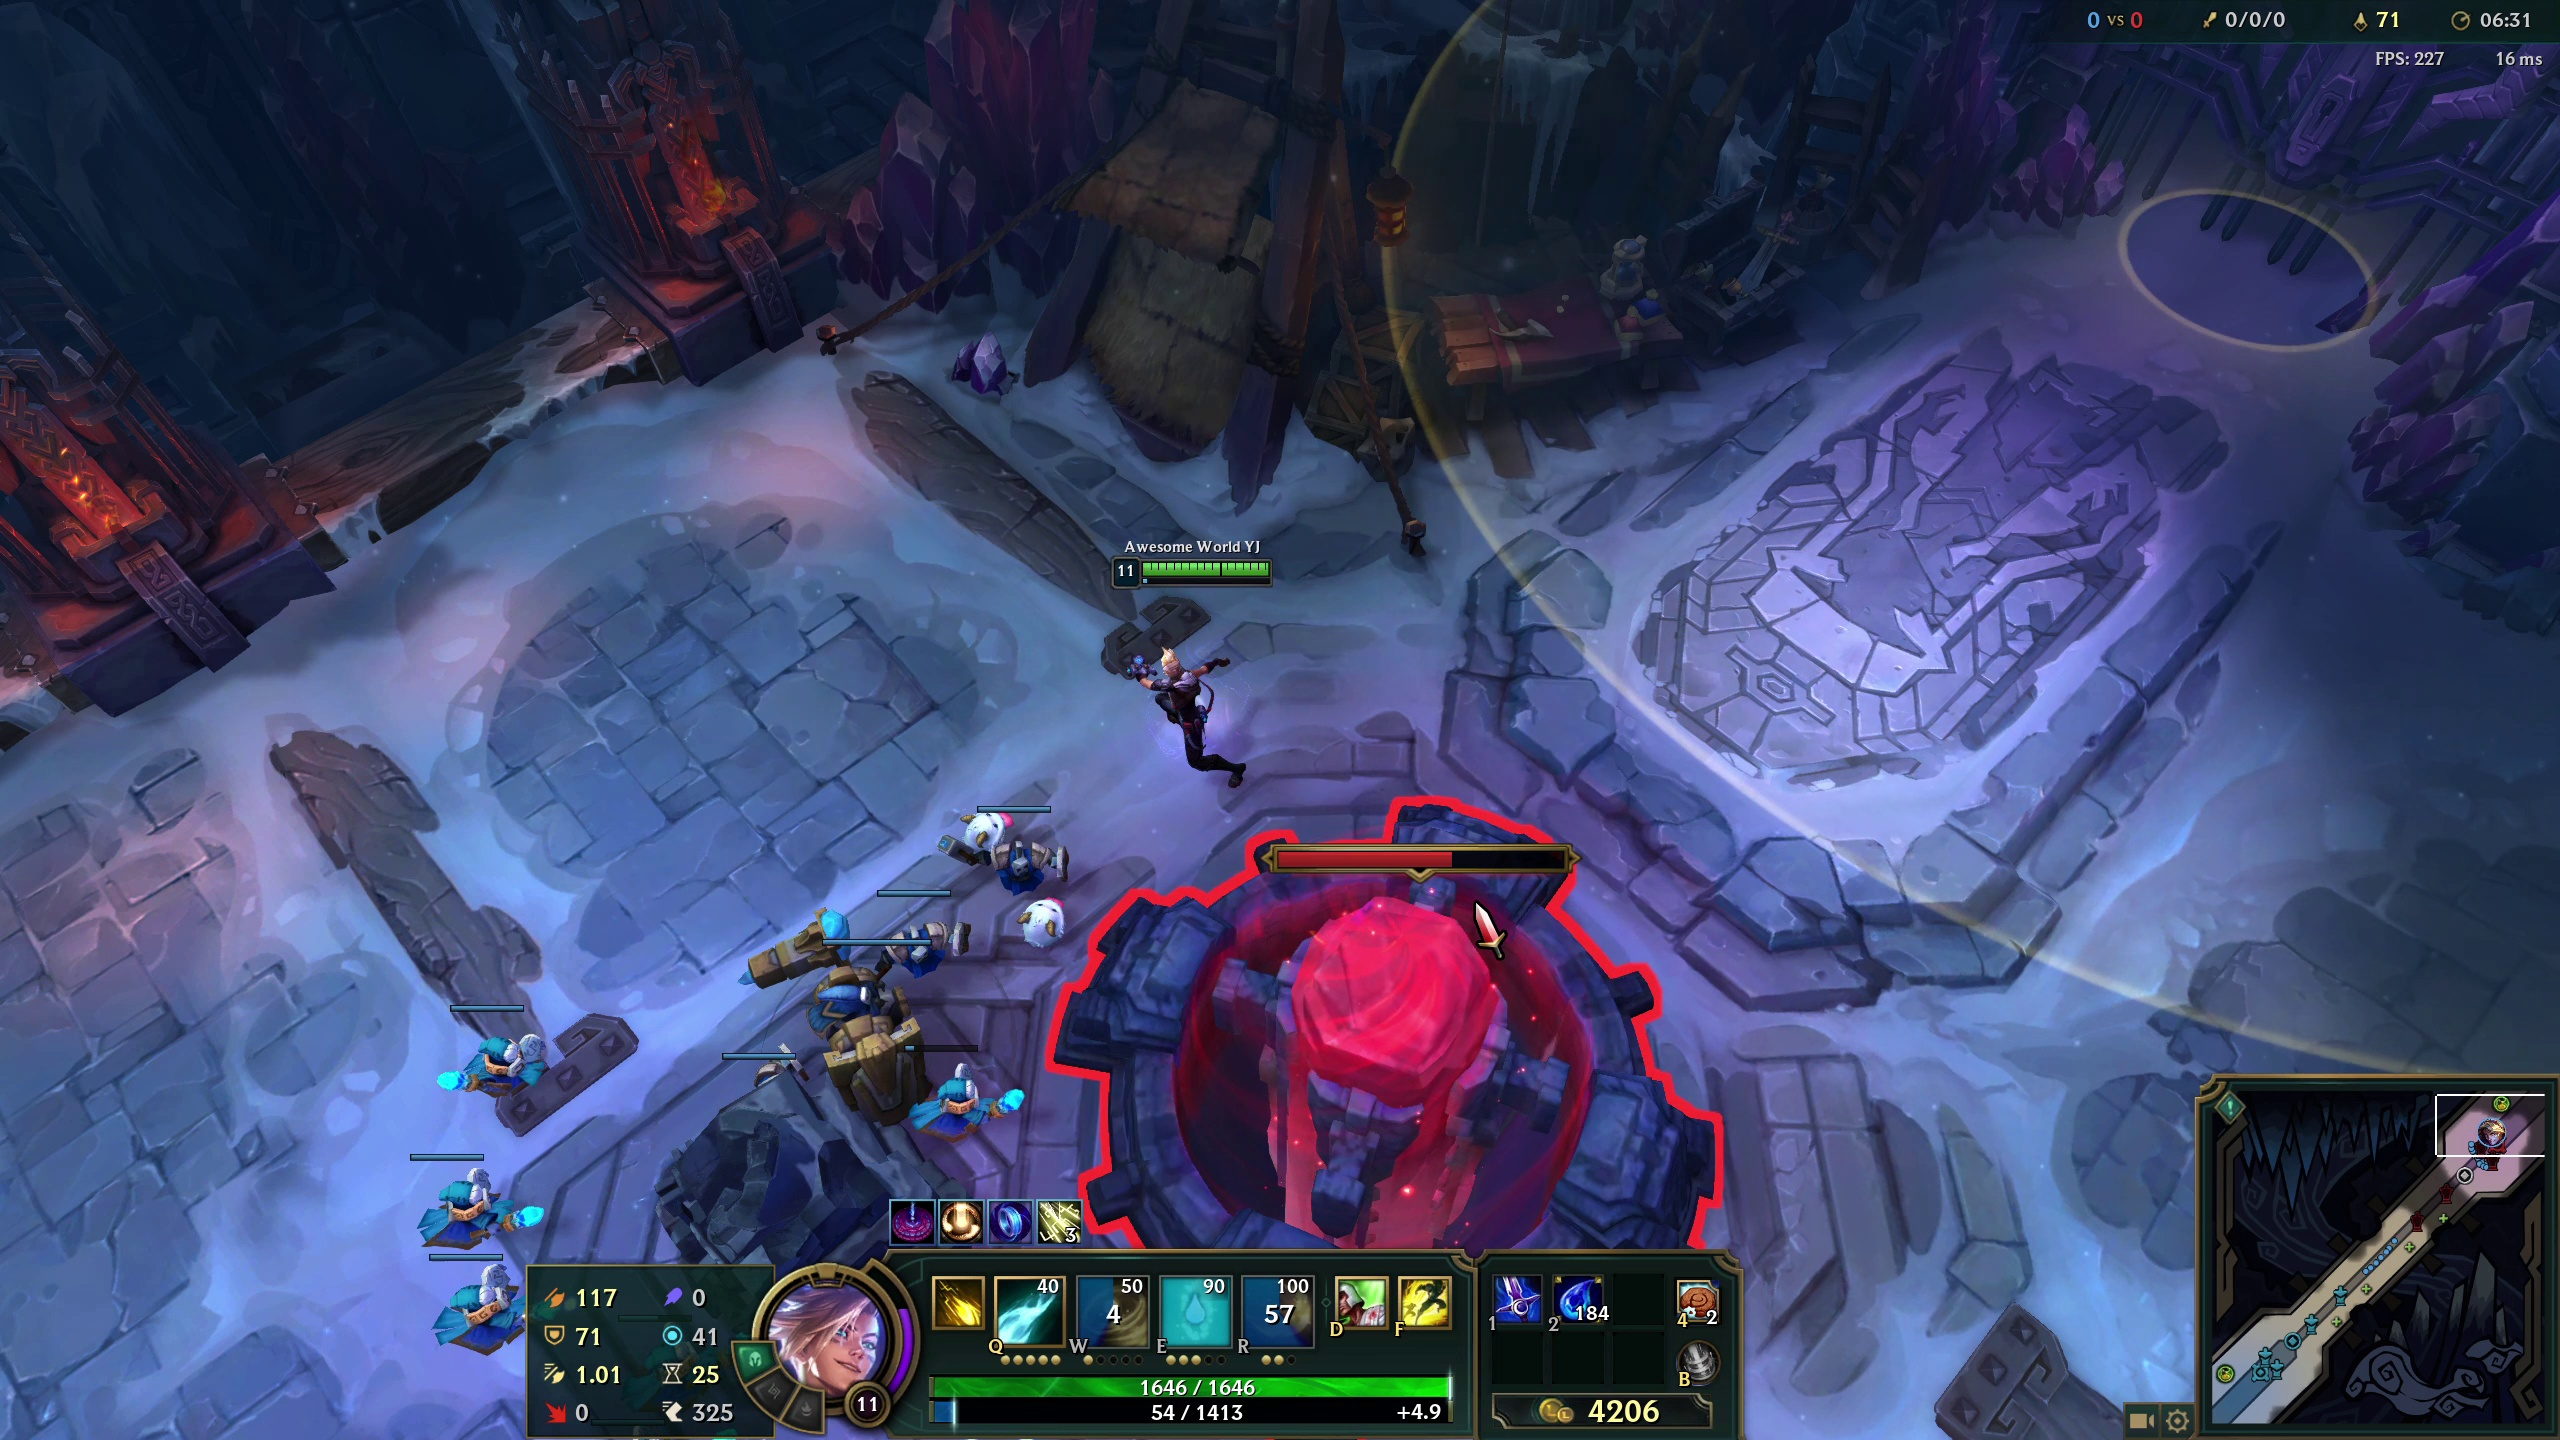EZ: (1088, 615, 1289, 800)
Inhibitor: (1187, 855, 1538, 1208)
MyMinion: (401, 1145, 526, 1243), (891, 1050, 1002, 1160), (443, 1006, 570, 1090), (420, 1254, 522, 1354), (949, 804, 1060, 891)
MySuperMinnion: (812, 953, 932, 1101)
